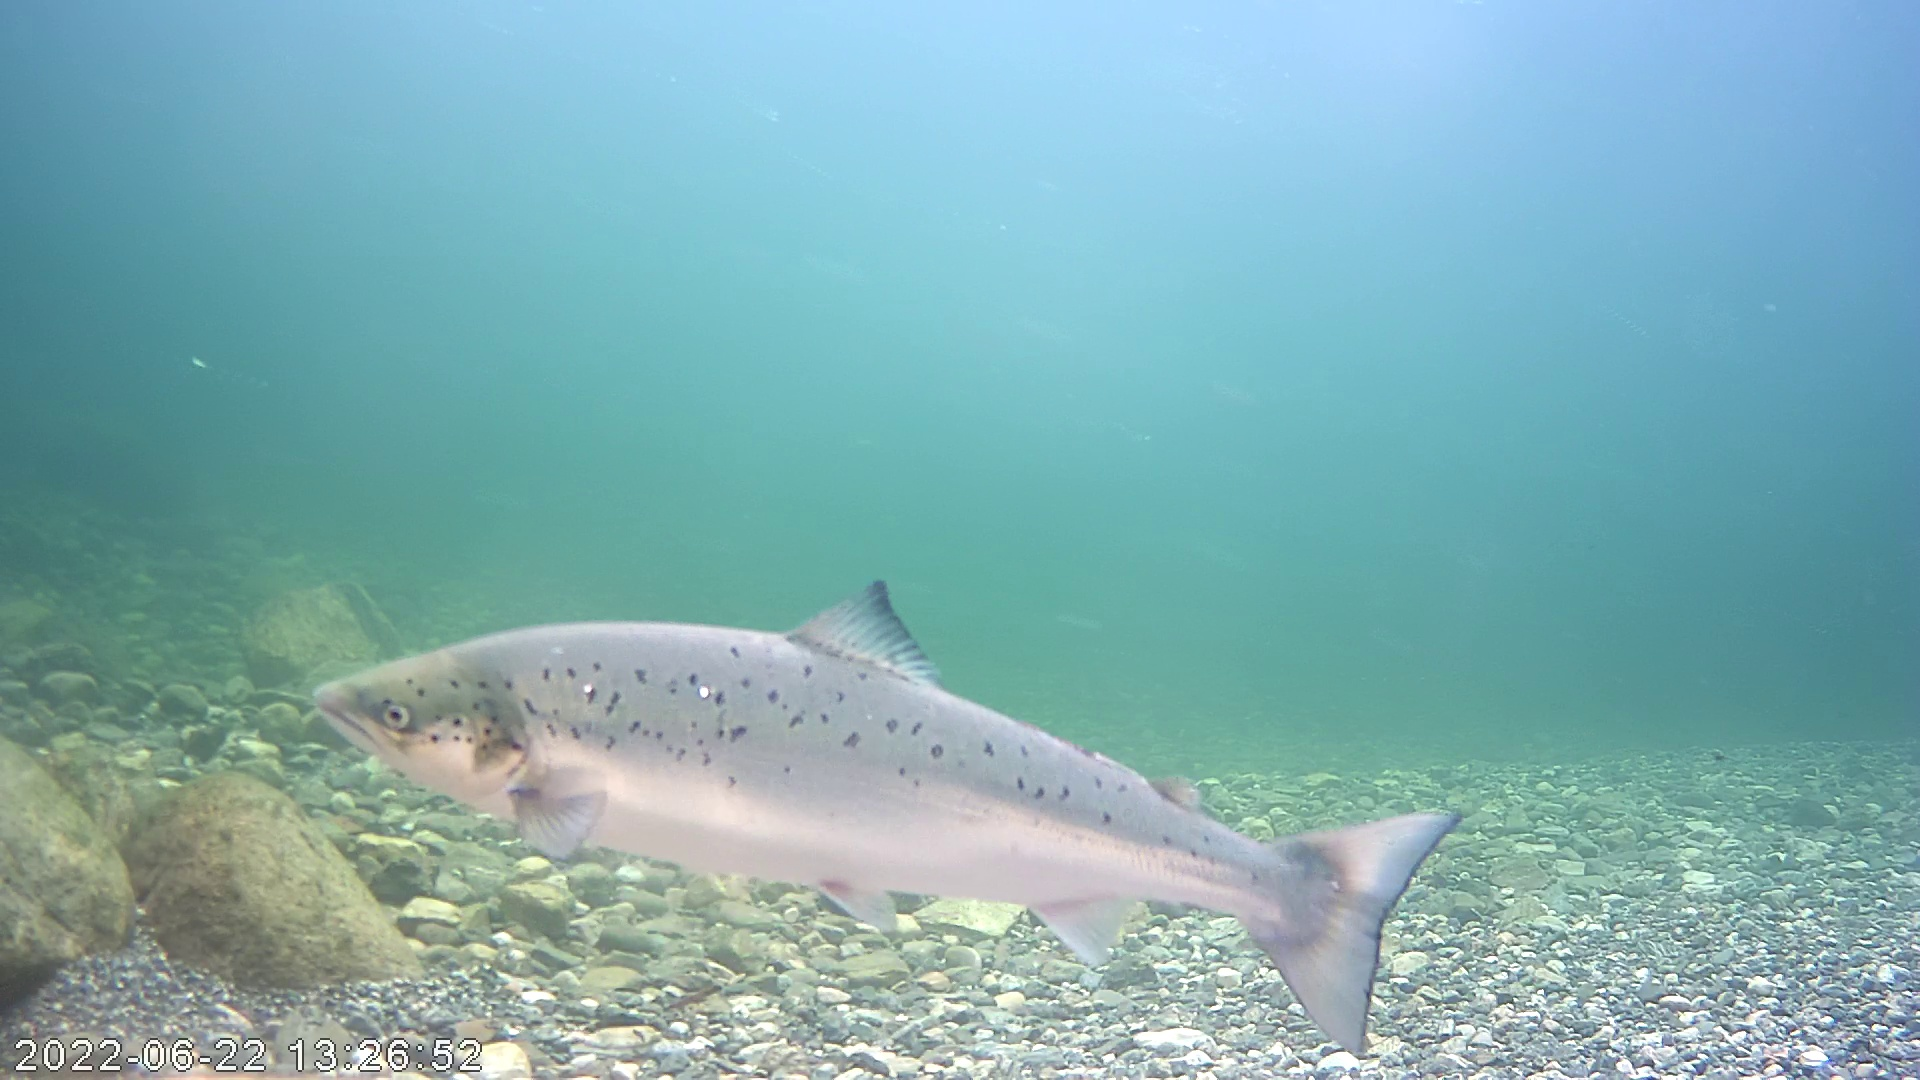salmon: (307, 578, 1466, 1062)
